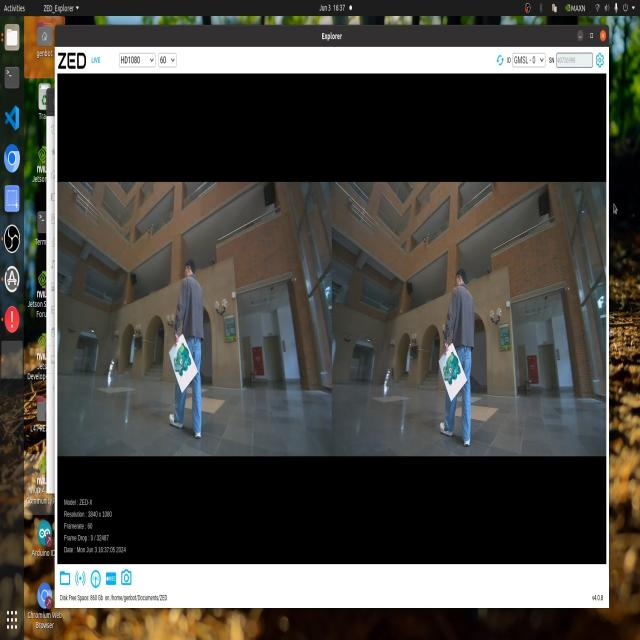green: (170, 340, 198, 372), (440, 348, 462, 383)
